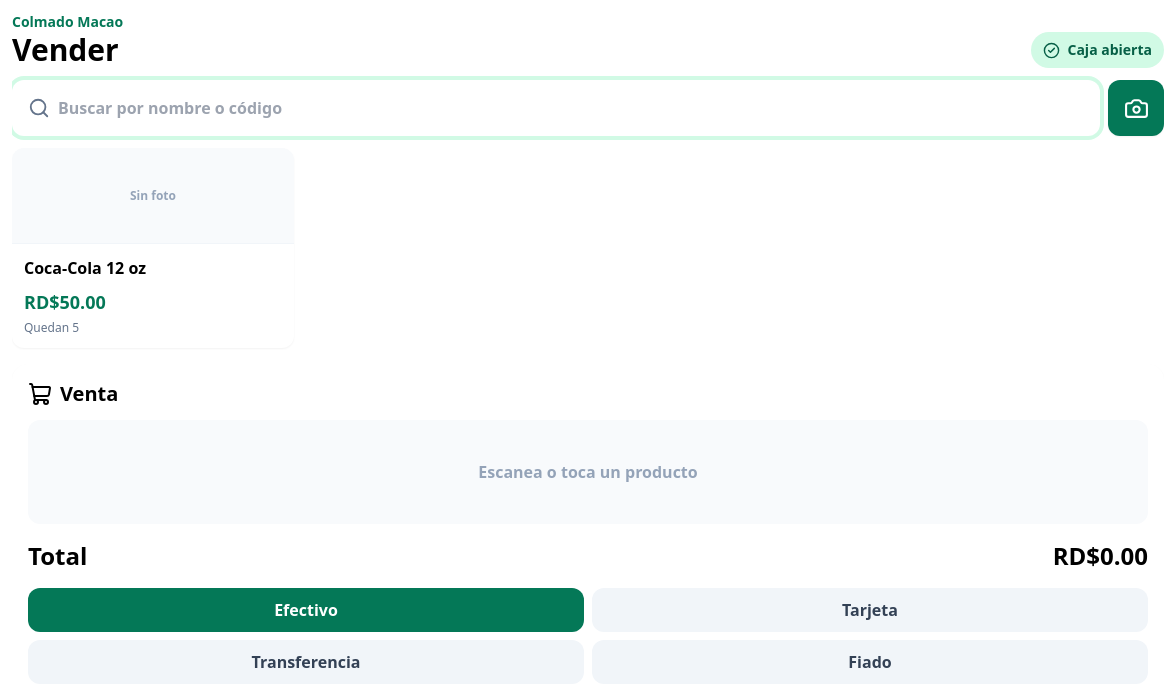
SalePanel › explains when a scanned product is not active in store inventory
Expected: the button "Sin foto Coca-Cola 12 oz RD$50.00 Quedan 5" is shown, [12, 148, 294, 348]
Click the button named "Escanear código de barra": [1136, 108] box [1108, 80, 1164, 136]
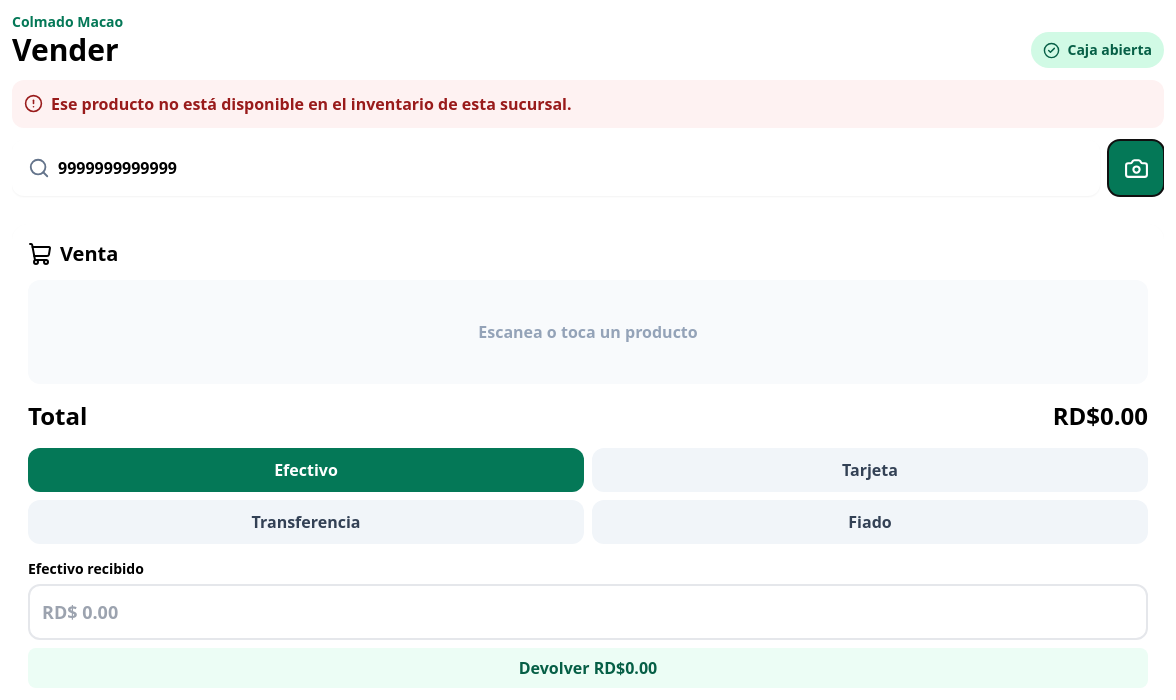
Expected: the message shows "no está disponible en el inventario de esta sucursal", [51, 93, 572, 115]
